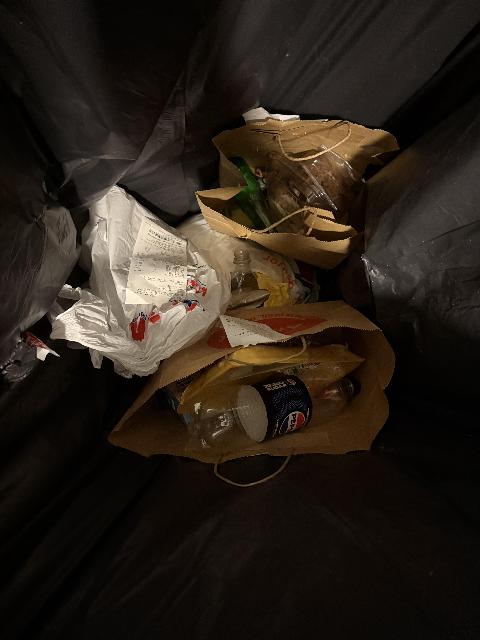Kagit: (131, 235, 189, 306)
Plastik: (198, 372, 335, 450), (77, 317, 176, 353), (273, 389, 301, 437), (234, 253, 254, 299)
